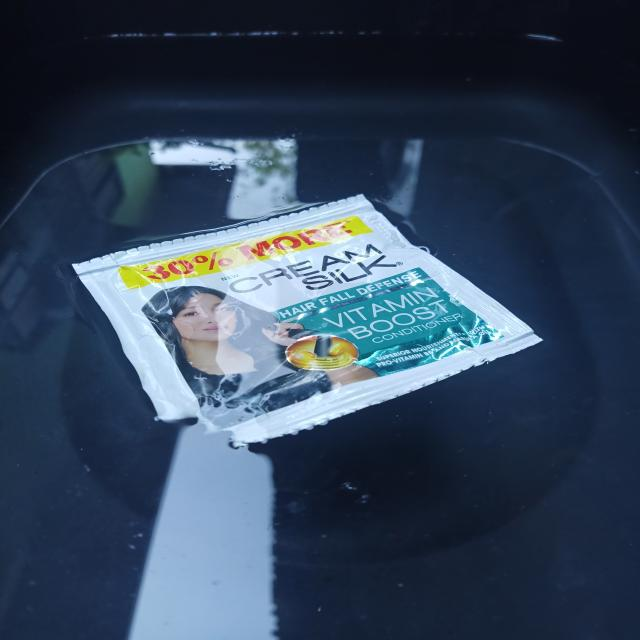Plastic Wrapper: (70, 195, 541, 448)
